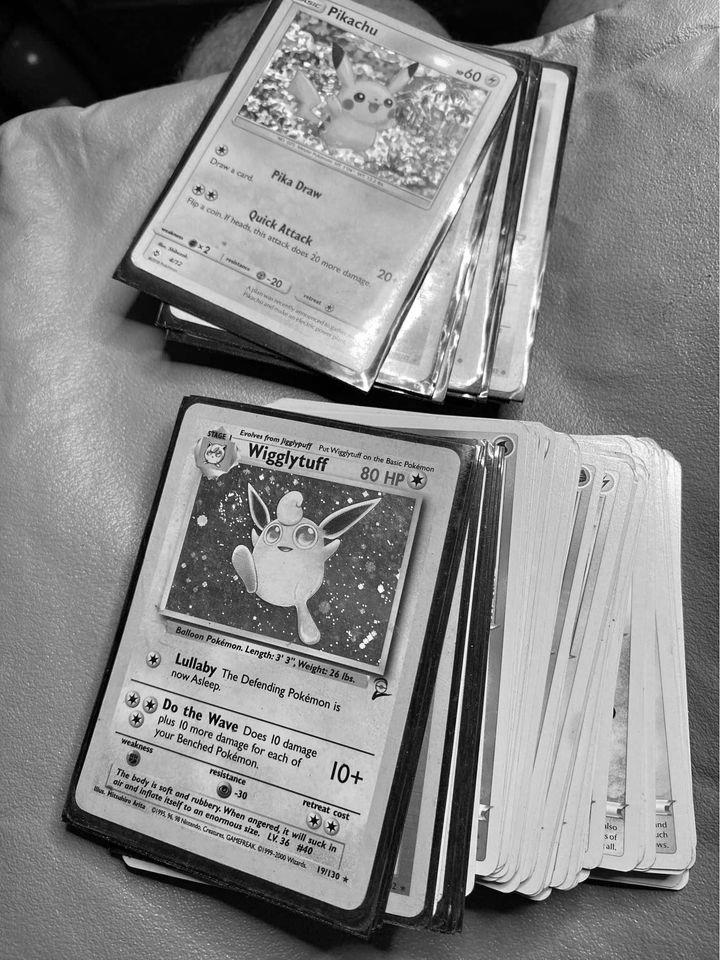card: (62, 399, 476, 922), (126, 0, 525, 378)
